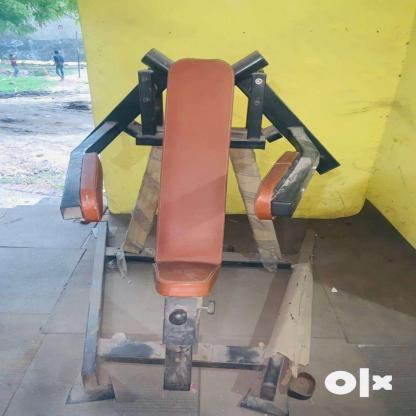lateral raises machine: (63, 46, 339, 416)
